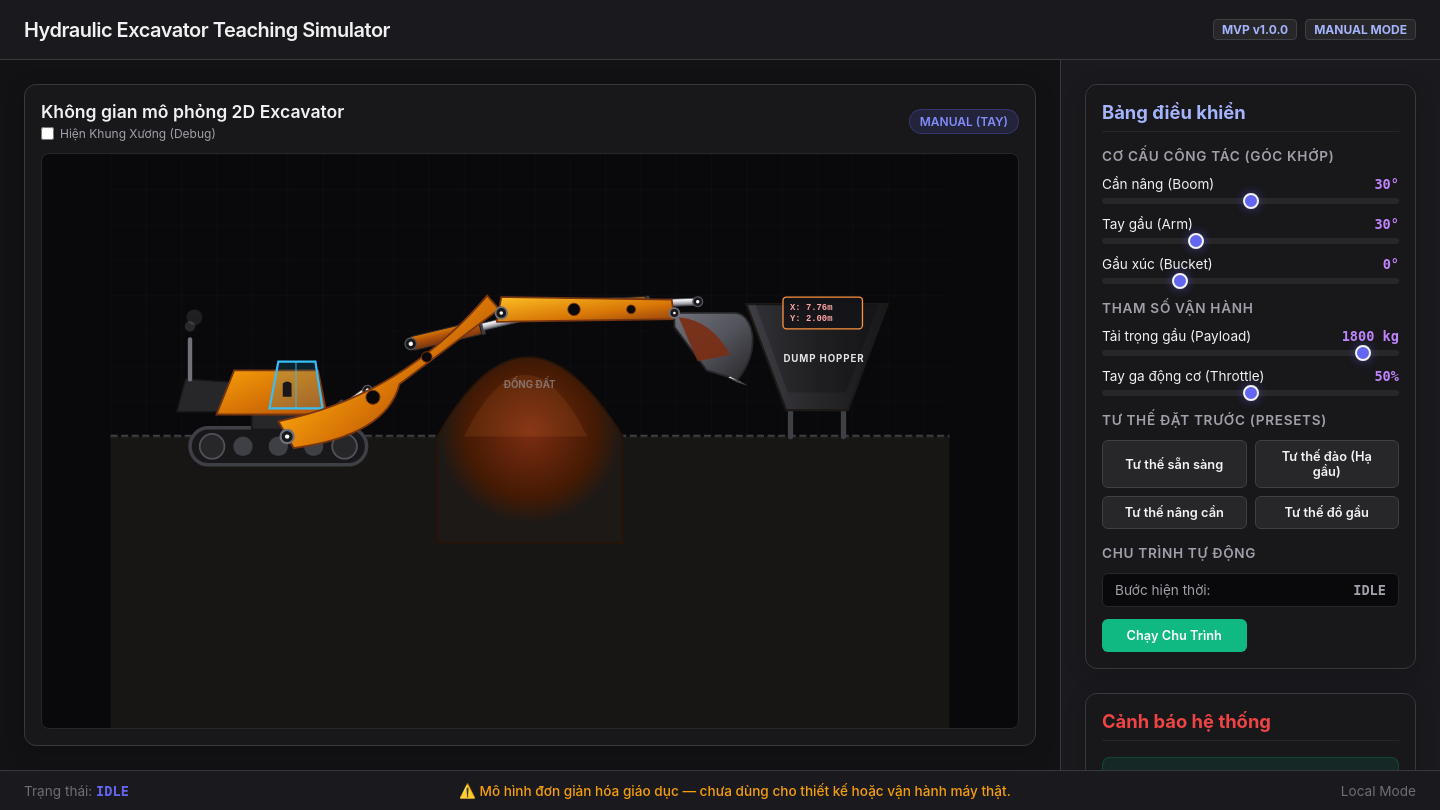
Test: Excavator Simulator Integration Flow › should run, pause, and reset automatic cycle
What coordinates should you click on to do the following:
click the button "Chạy Chu Trình"
I would click on:
 (1174, 636)
Its box is [1102,619,1246,652].
Wait 10 ms
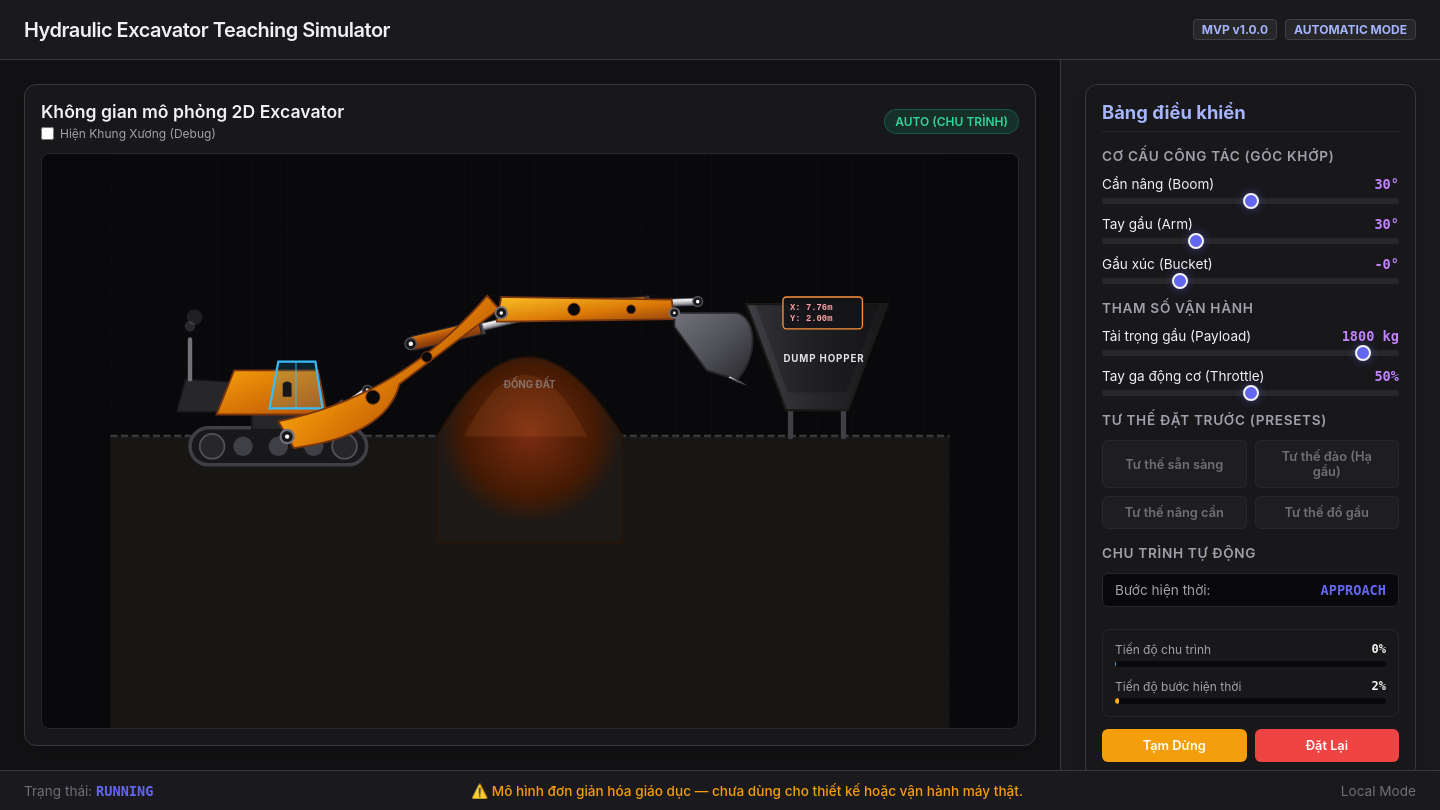
Now the text "APPROACH" is shown, box [1320,582,1386,598]
What coordinates should you click on to do the following:
click the button "Tạm Dừng"
I would click on:
 (1174, 746)
Its box is [1102,729,1246,762].
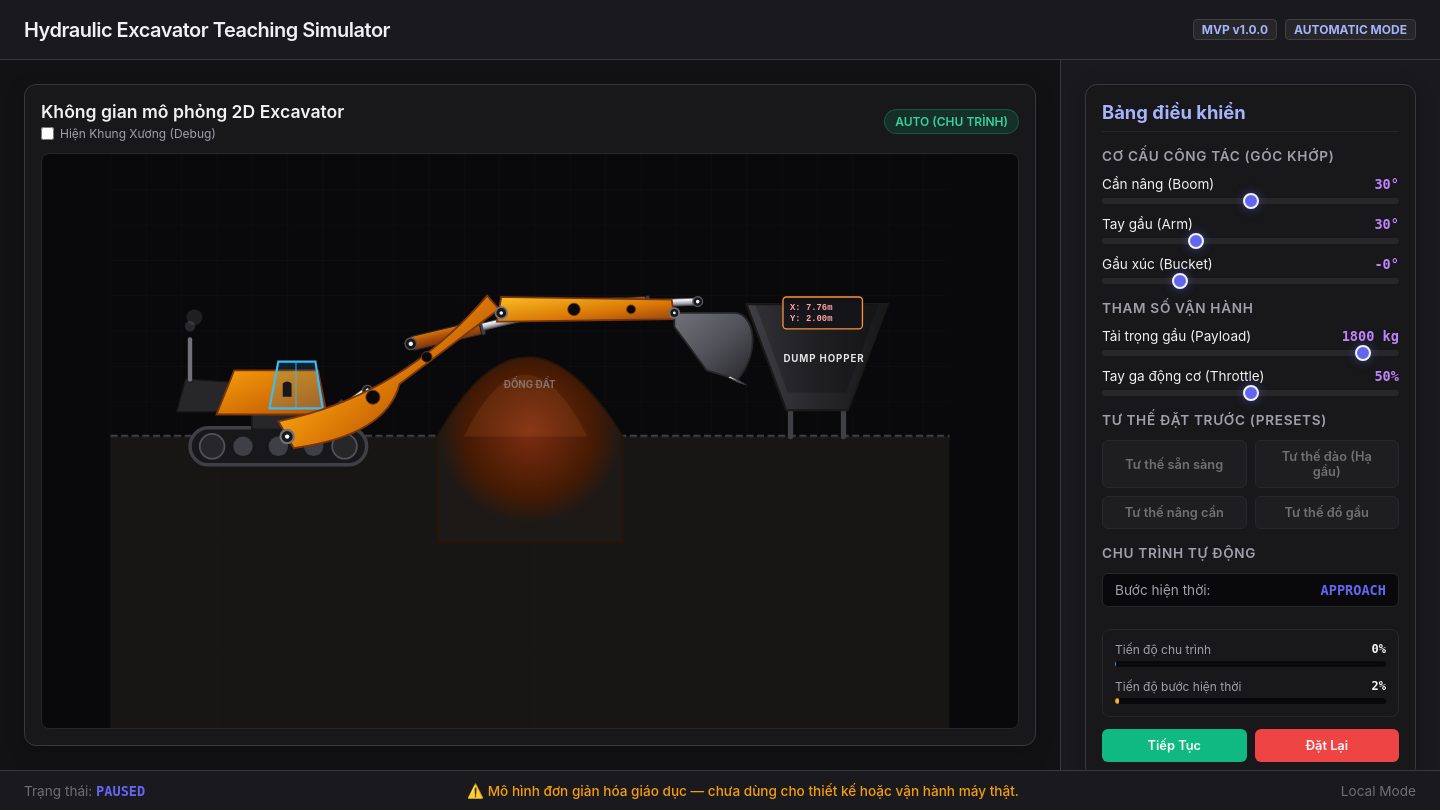
Now the text "PAUSED" is shown, box [96,782,145,798]
What coordinates should you click on to do the following:
click the button "Đặt Lại"
I would click on:
 (1327, 746)
Its box is [1254,729,1399,762].
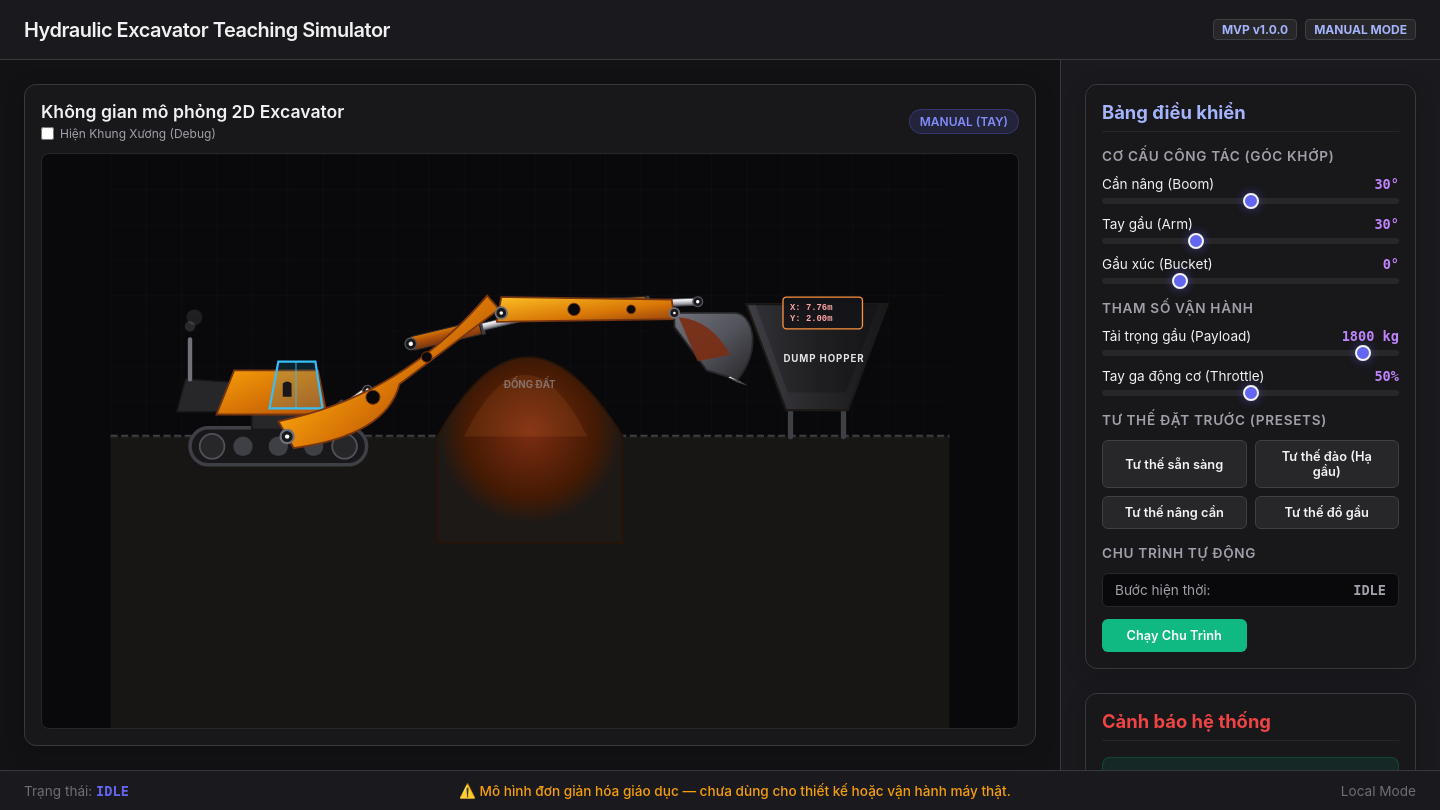
Now the text "APPROACH" next to "Bước hiện thời:" reads "IDLE", box [1353,582,1386,598]
